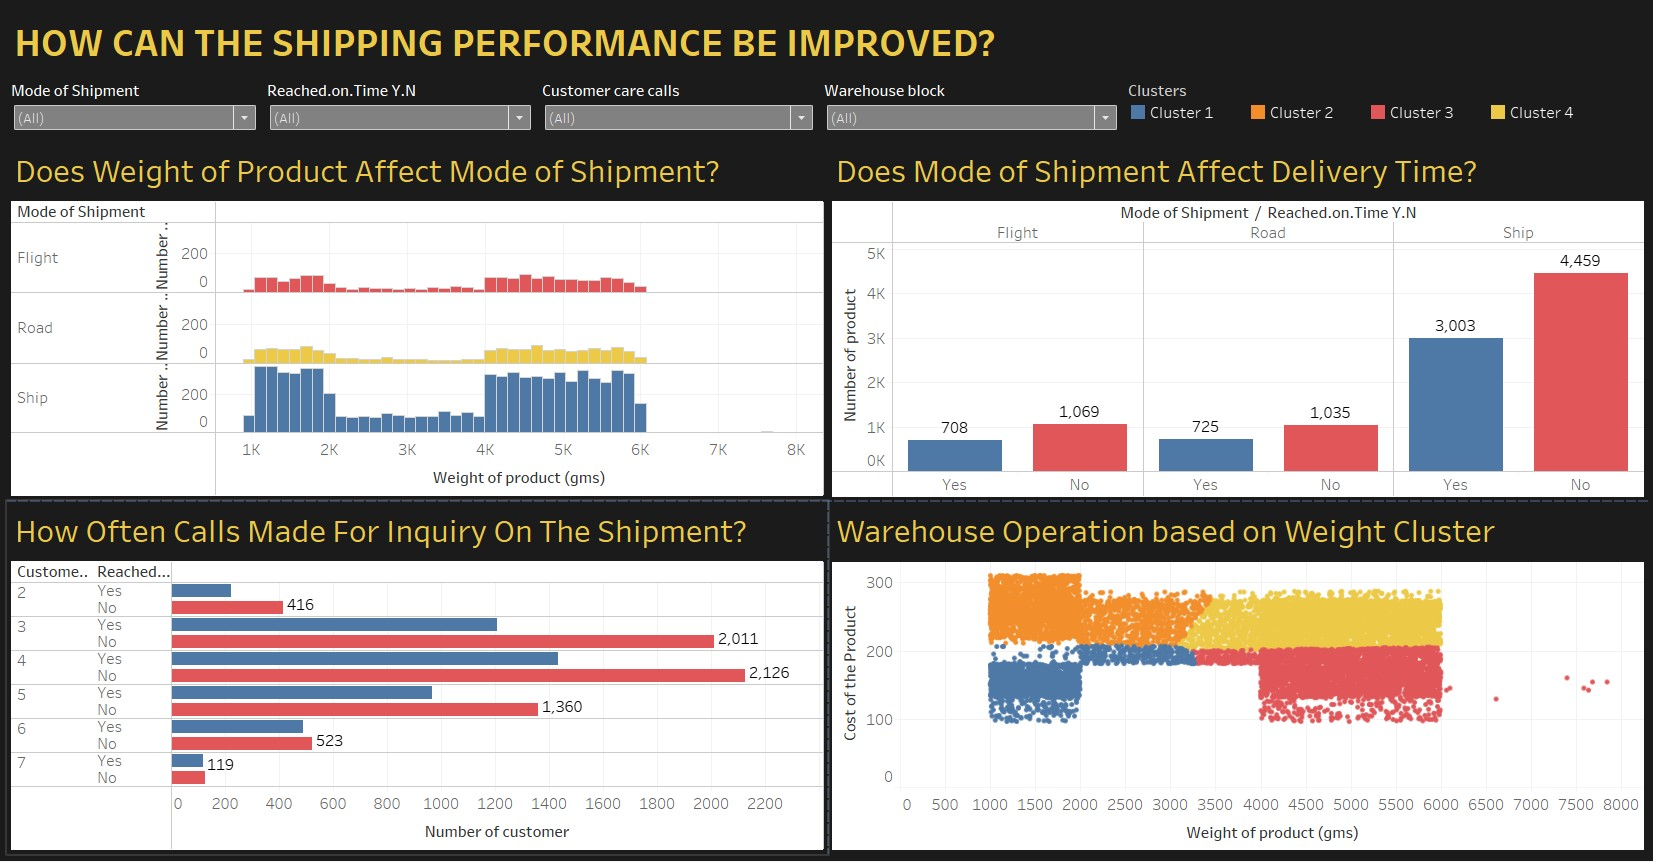

This screenshot's page, from the dashboard's own definition file:
{"tool":"tableau","page":{"name":"Dashboard 4","canvas":[1600,800],"ordinal":0},"visuals":[{"type":"title","box":[8,8,1584,51]},{"type":"filter","title":"Weight of product affect mode of shipment?","param":"[federated.1pj65a8108ijel0zj3r5i0mok536].[none:Mode_of_Shipment:nk]","box":[8,59,525,77]},{"type":"filter","title":"Weight of product affect mode of shipment?","param":"[federated.1pj65a8108ijel0zj3r5i0mok536].[none:Reached.on.Time_Y.N:ok]","box":[533,59,545,77]},{"type":"filter","title":"How often calls made for inquiry of the shipment?","param":"[federated.1pj65a8108ijel0zj3r5i0mok536].[none:Customer_care_calls:ok]","box":[1078,59,482,77]},{"type":"worksheet","title":"Weight of product affect mode of shipment?","mark":"Automatic","rows":["Mode_of_Shipment","Weight_in_gms"],"cols":["Weight in gms (bin)"],"box":[8,136,792,328]},{"type":"worksheet","title":"Does mode of shipment affect delivery time?","mark":"Automatic","rows":["ID"],"cols":["Mode_of_Shipment","Reached.on.Time_Y.N"],"box":[800,136,792,656]},{"type":"worksheet","title":"How often calls made for inquiry of the shipment?","mark":"Automatic","rows":["Customer_care_calls","Reached.on.Time_Y.N"],"cols":["ID"],"box":[8,464,792,328]}]}

Visuals, with their boxes on the page's 1600x800 design canvas (x1, y1, x2, y2). These are canvas units, not pixel positions in the 1653x862 screenshot, which may show the page scaled, cropped or inside an application window:
title: <box>8,8,1592,59</box>
"Weight of product affect mode of shipment?" filter: <box>8,59,533,136</box>
"Weight of product affect mode of shipment?" filter: <box>533,59,1078,136</box>
"How often calls made for inquiry of the shipment?" filter: <box>1078,59,1560,136</box>
"Weight of product affect mode of shipment?" worksheet: <box>8,136,800,464</box>
"Does mode of shipment affect delivery time?" worksheet: <box>800,136,1592,792</box>
"How often calls made for inquiry of the shipment?" worksheet: <box>8,464,800,792</box>
